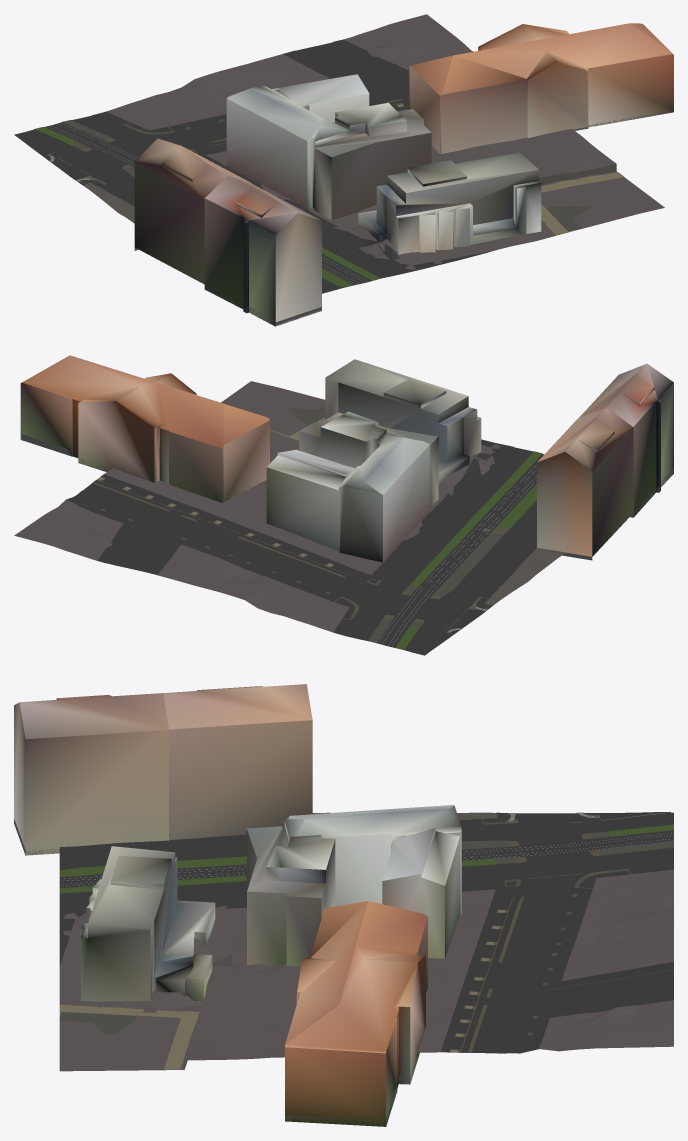
3 views of the same model, one above another, from view 1: azimuth 30°, elevation 25°; view 2: azimuth 150°, elevation 25°; view 3: azimuth 270°, elevation 25° (orthographic). The views are drawn at different scales.
Visible parts, largest first — view 1: c_m14_m02; view 2: c_m14_m02; view 3: c_m14_m02.
Part boxes in pixels (x1,y1,x2,y2): c_m14_m02: [14, 14, 673, 326]; c_m14_m02: [14, 355, 673, 655]; c_m14_m02: [14, 684, 673, 1126].
Size of the model in its own units: 168 by 31.62 by 137.
